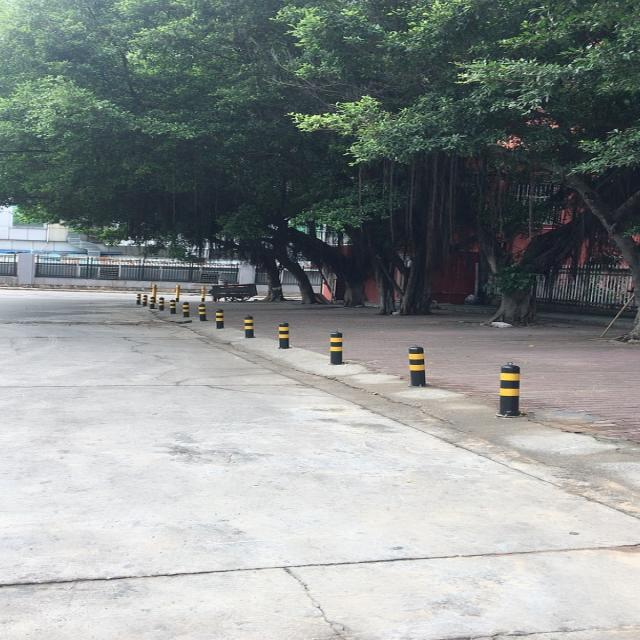warning_column: (497, 361, 526, 417), (406, 344, 428, 387), (327, 330, 345, 364), (276, 322, 290, 348), (243, 314, 255, 338), (213, 308, 226, 329), (197, 303, 207, 321), (168, 298, 177, 314), (198, 284, 206, 302), (182, 301, 190, 317), (173, 284, 180, 302), (148, 296, 156, 308), (158, 297, 165, 310), (140, 294, 146, 306), (150, 284, 156, 296), (134, 294, 140, 304)
